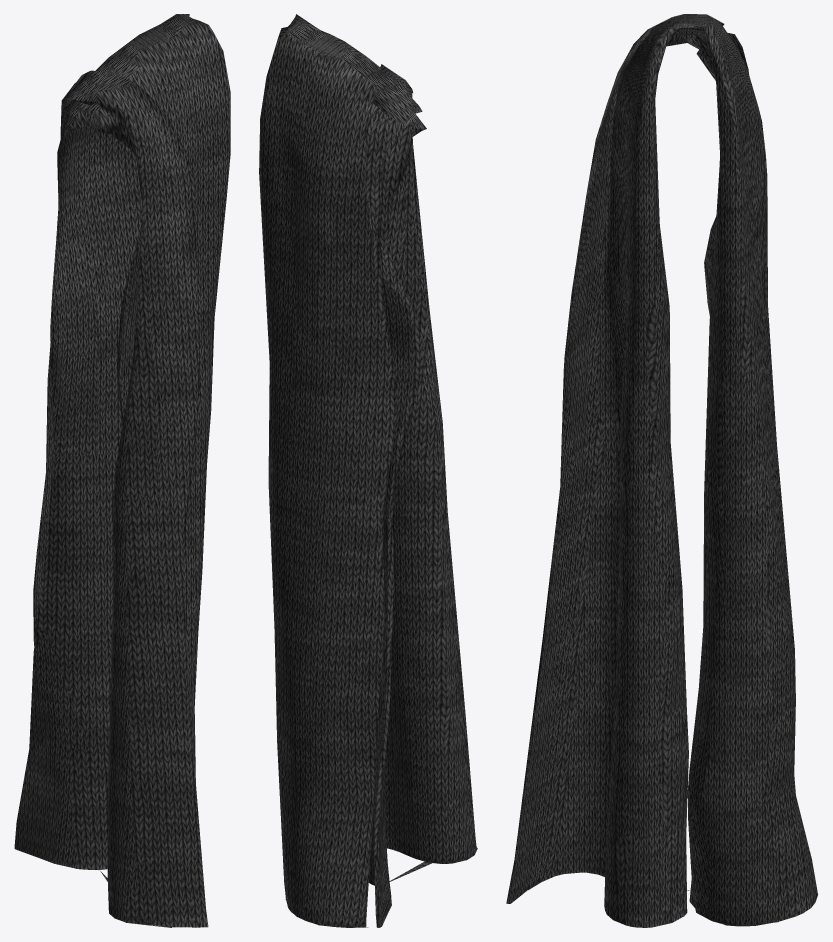
File: Scarf.FBX
3 views of the same model, side by side, from view 1: azimuth 30°, elevation 25°; view 2: azimuth 150°, elevation 25°; view 3: azimuth 270°, elevation 25° (orthographic). The views are drawn at different scales.
Parts seen in each view (by area): view 1: Scarf; view 2: Scarf; view 3: Scarf.
Part boxes in pixels (left/top/right/bottom): Scarf: left=14, top=14, right=230, bottom=927; Scarf: left=259, top=14, right=477, bottom=927; Scarf: left=506, top=14, right=818, bottom=927.
Size of the model in its own units: 17.1 by 88.59 by 27.43.
Materials: 1 (1 with a texture image).
